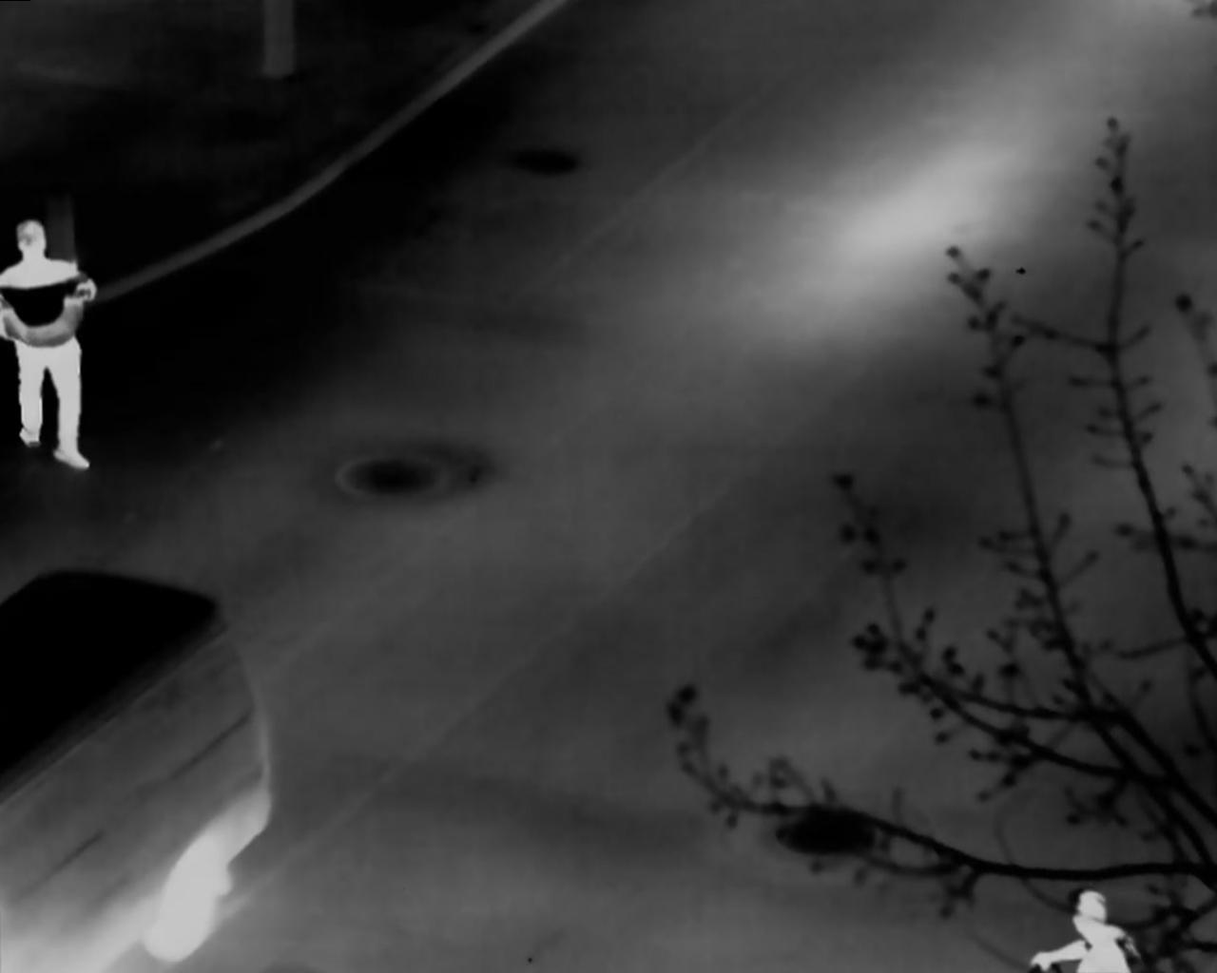person: (9, 225, 101, 467), (1028, 887, 1145, 973)
